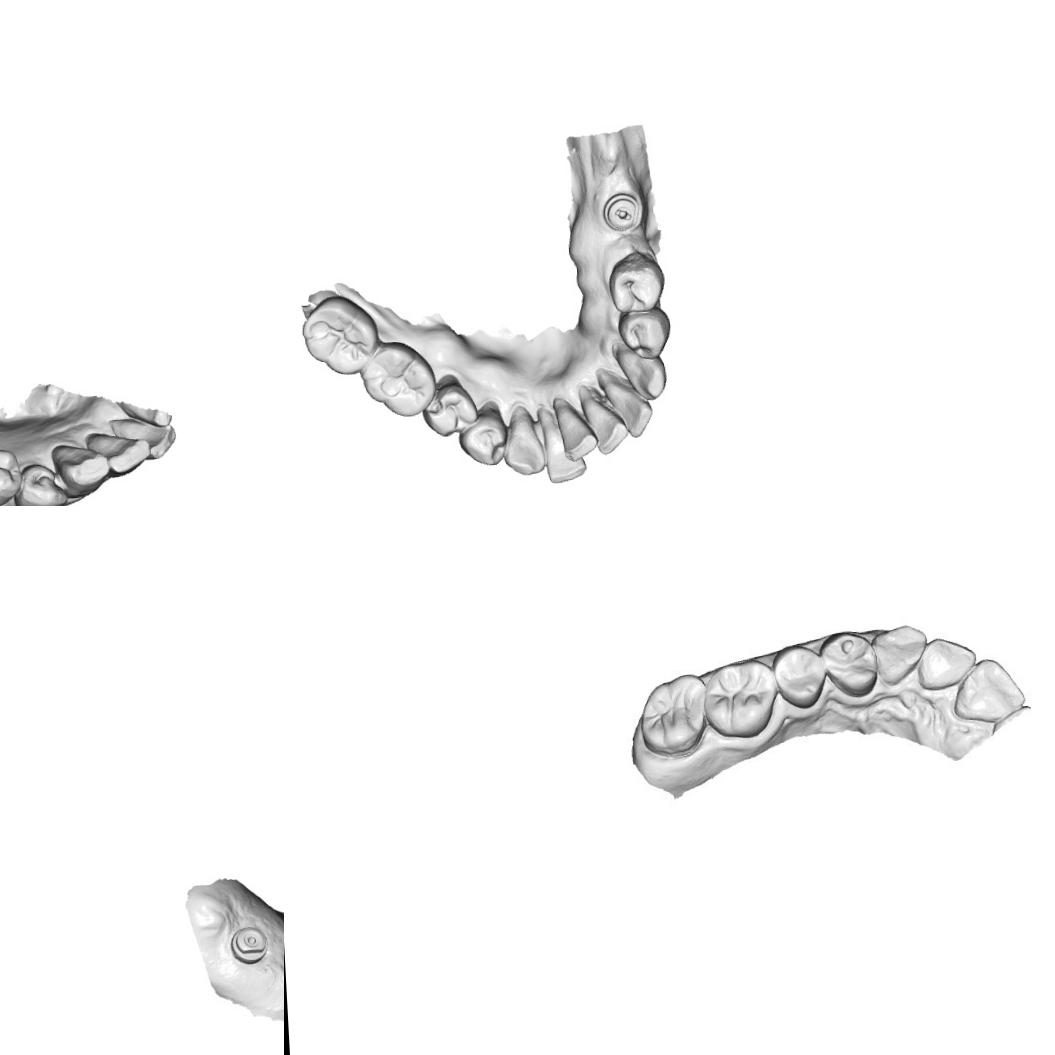canine: (611, 337, 672, 404), (870, 618, 927, 688), (49, 440, 114, 500), (499, 402, 545, 477)
implant: (228, 923, 269, 965)
implant_minus: (600, 192, 642, 232)
incisor: (953, 654, 1031, 722), (104, 410, 176, 464), (83, 426, 153, 478), (918, 638, 975, 695), (540, 430, 588, 484), (555, 402, 598, 460), (586, 401, 630, 455), (613, 386, 656, 438)
molar: (298, 292, 382, 378), (357, 337, 439, 420), (700, 656, 776, 744), (633, 671, 708, 759)
premolar: (606, 248, 666, 315), (823, 627, 879, 698), (418, 378, 481, 439), (456, 400, 510, 466), (773, 642, 827, 708), (615, 303, 672, 361), (11, 457, 67, 506), (0, 447, 22, 506)
